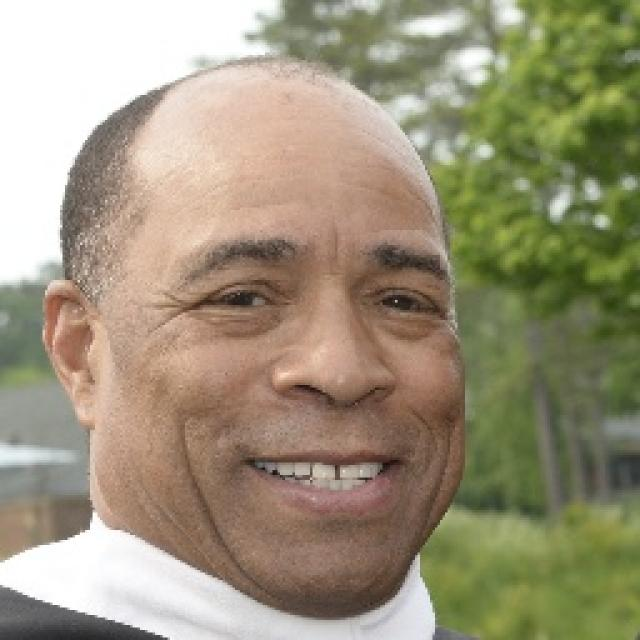earlobe: (66, 390, 97, 426)
eye: (202, 276, 286, 319), (372, 287, 442, 321)
nose: (293, 388, 396, 426)
wholeear: (40, 279, 96, 425)
